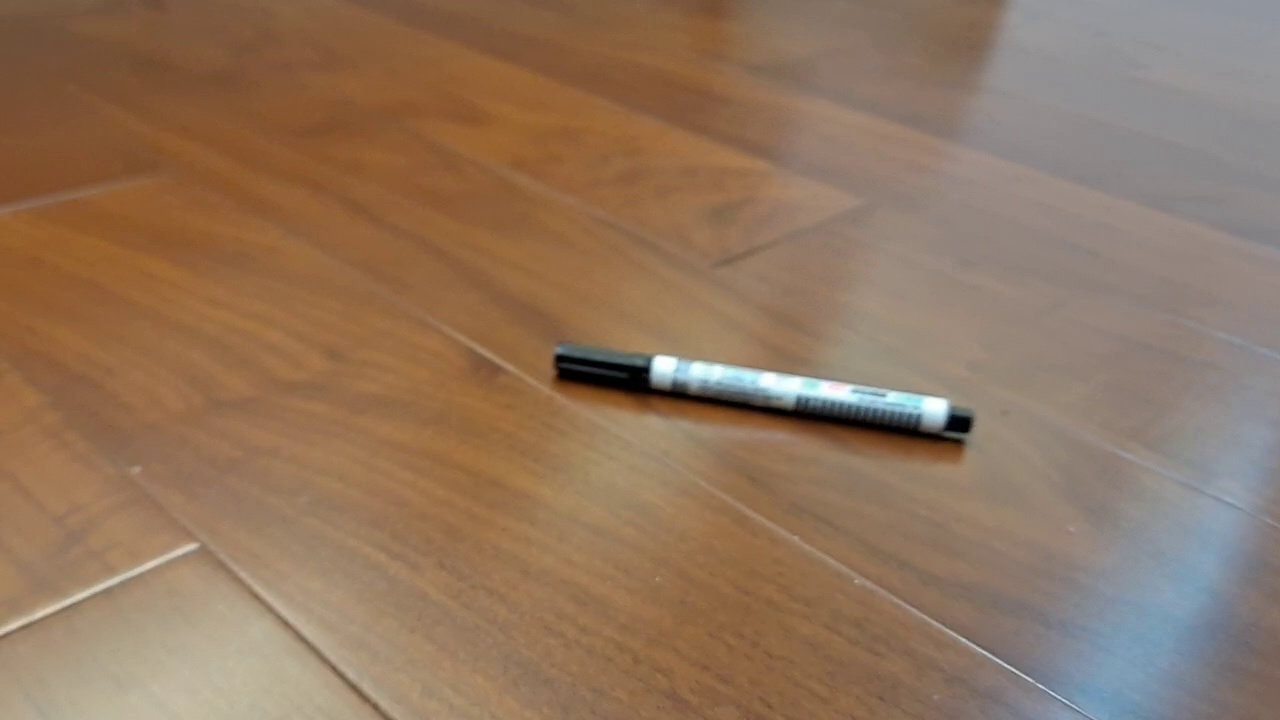pen: (553, 341, 976, 435)
